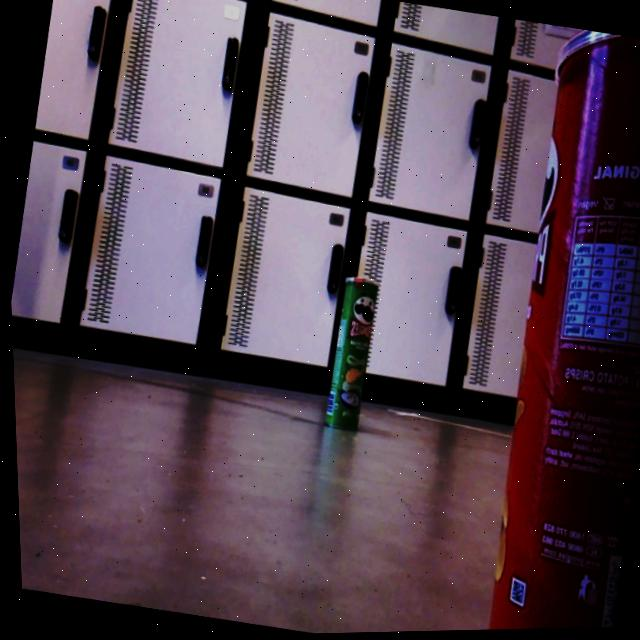greenpringles: (304, 250, 391, 450)
redpringles: (420, 21, 640, 633)
